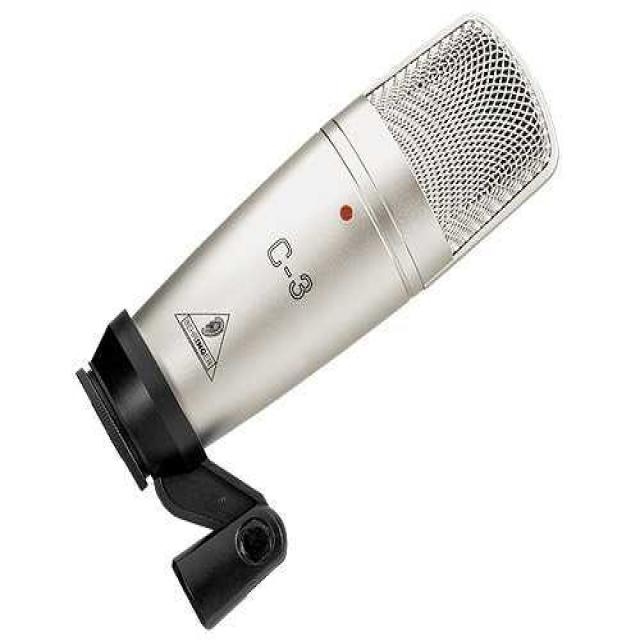microphone: (78, 12, 574, 496)
